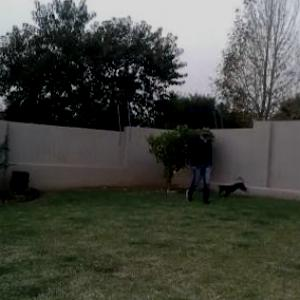follow: (188, 119, 214, 208)
